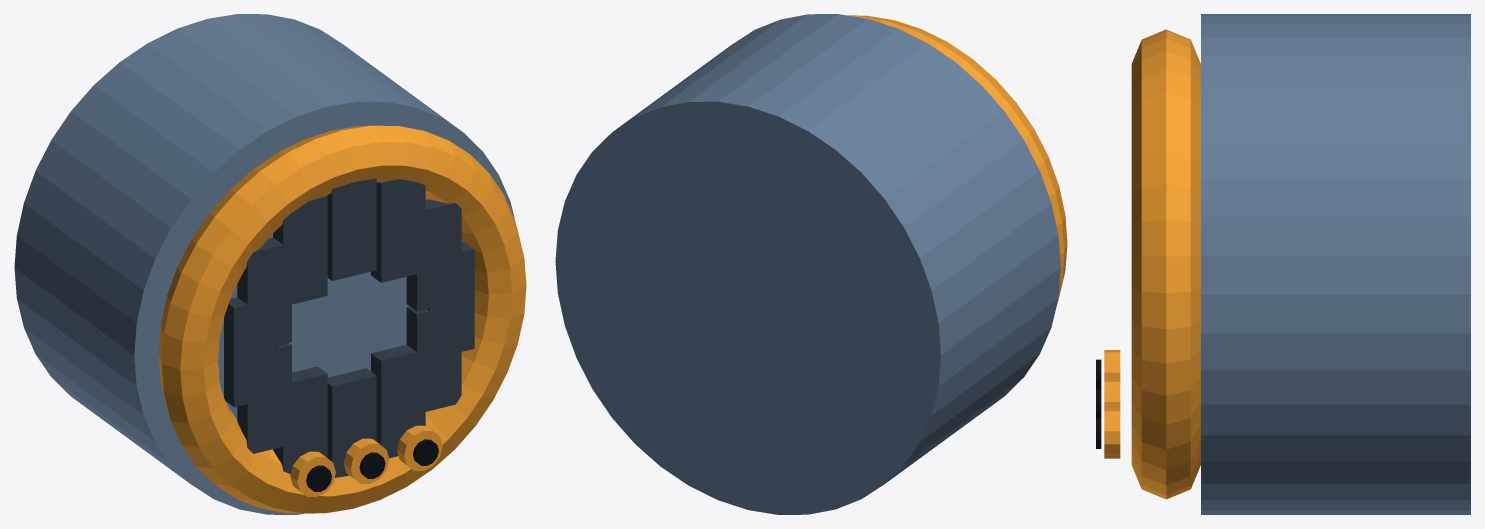
The model's file is 18_L89_ParticleCollimatorHead.fbx.
3 renders of one model, left to right at view 1: azimuth 30°, elevation 25°; view 2: azimuth 150°, elevation 25°; view 3: azimuth 270°, elevation 25°, orthographic. The views are drawn at different scales.
Visible parts, largest first — view 1: L87_ParticleCollimatorHead_Part_0000, L87_ParticleCollimatorHead_Part_0001, L87_ParticleCollimatorHead_Part_0002, L87_ParticleCollimatorHead_Part_0003, L87_ParticleCollimatorHead_Part_0007, L87_ParticleCollimatorHead_Part_0005; view 2: L87_ParticleCollimatorHead_Part_0000, L87_ParticleCollimatorHead_Part_0001; view 3: L87_ParticleCollimatorHead_Part_0000, L87_ParticleCollimatorHead_Part_0001, L87_ParticleCollimatorHead_Part_0007, L87_ParticleCollimatorHead_Part_0005, L87_ParticleCollimatorHead_Part_0003.
Boxes of the visible parts, <box> form: L87_ParticleCollimatorHead_Part_0000: <box>14,14,514,514</box>; L87_ParticleCollimatorHead_Part_0001: <box>158,125,526,513</box>; L87_ParticleCollimatorHead_Part_0002: <box>224,178,474,477</box>; L87_ParticleCollimatorHead_Part_0003: <box>290,451,335,497</box>; L87_ParticleCollimatorHead_Part_0007: <box>397,425,442,470</box>; L87_ParticleCollimatorHead_Part_0005: <box>343,438,389,483</box>; L87_ParticleCollimatorHead_Part_0000: <box>555,14,1060,514</box>; L87_ParticleCollimatorHead_Part_0001: <box>847,15,1067,300</box>; L87_ParticleCollimatorHead_Part_0000: <box>1201,14,1470,514</box>; L87_ParticleCollimatorHead_Part_0001: <box>1131,29,1200,499</box>; L87_ParticleCollimatorHead_Part_0007: <box>1104,408,1120,458</box>; L87_ParticleCollimatorHead_Part_0005: <box>1104,379,1120,408</box>; L87_ParticleCollimatorHead_Part_0003: <box>1104,350,1120,379</box>.
Size of the model in its own units: 130 by 130 by 97.2.
